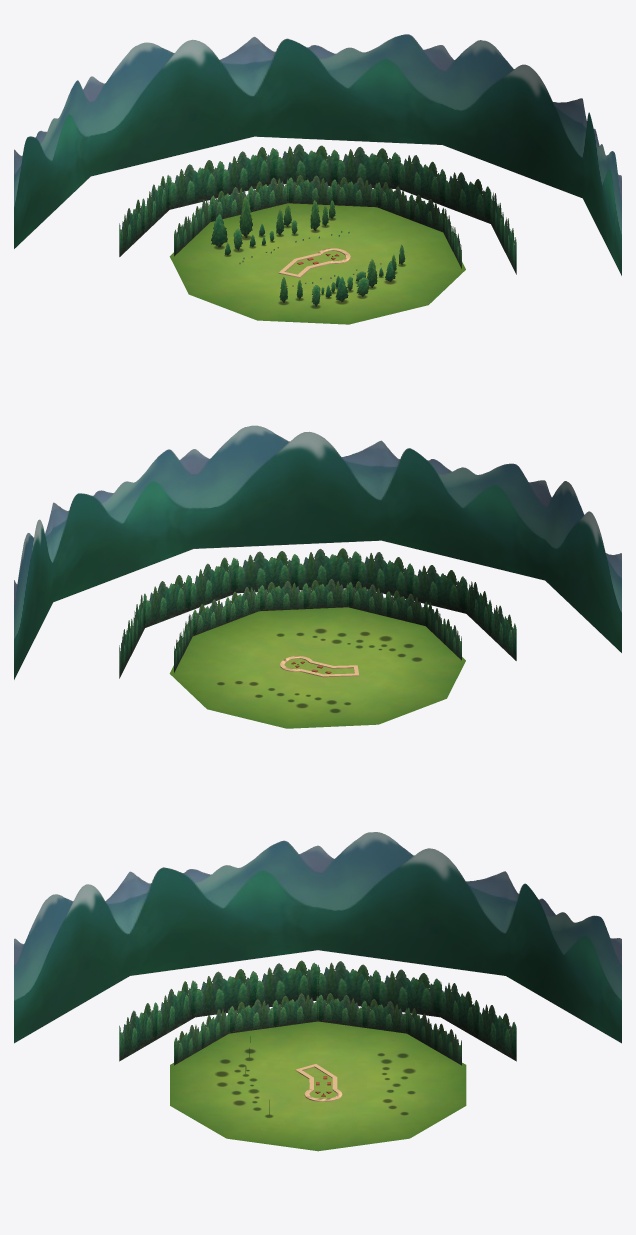
File: hole8.glb
3 renders of one model, top to bottom at view 1: azimuth 30°, elevation 25°; view 2: azimuth 150°, elevation 25°; view 3: azimuth 270°, elevation 25°, orthographic. The views are drawn at different scales.
Visible parts, largest first — view 1: background1, grass_base, background3, background2, edges1; view 2: background1, grass_base, background3, background2, edges1; view 3: background1, grass_base, background3, background2, edges1, grass1.
Part boxes in pixels (left/top/right/bottom): background1: left=14, top=34, right=621, bottom=275; grass_base: left=169, top=203, right=465, bottom=324; background3: left=119, top=144, right=516, bottom=274; background2: left=174, top=175, right=461, bottom=268; edges1: left=278, top=248, right=350, bottom=277; background1: left=14, top=425, right=621, bottom=679; grass_base: left=169, top=607, right=465, bottom=728; background3: left=119, top=548, right=516, bottom=678; background2: left=174, top=579, right=461, bottom=672; edges1: left=280, top=656, right=359, bottom=677; background1: left=14, top=832, right=621, bottom=1043; grass_base: left=170, top=1021, right=466, bottom=1151; background3: left=119, top=960, right=516, bottom=1061; background2: left=174, top=993, right=461, bottom=1065; edges1: left=295, top=1064, right=342, bottom=1101; grass1: left=303, top=1067, right=337, bottom=1098.
Size of what is drawn, in the model's own units: 347 by 78.81 by 330.
Materials: 10 (9 with a texture image).
